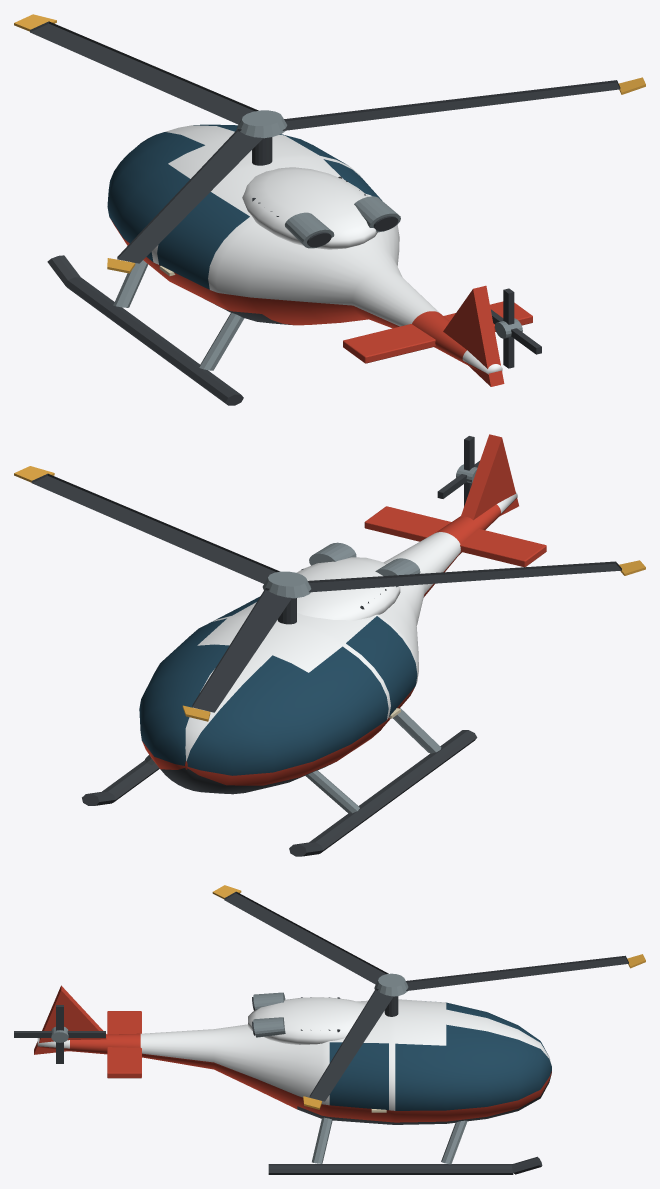
Rendered from helicopter.glb.
3 renders of one model, top to bottom at view 1: azimuth 30°, elevation 25°; view 2: azimuth 150°, elevation 25°; view 3: azimuth 270°, elevation 25°, orthographic. The views are drawn at different scales.
Parts seen in each view (by area): view 1: Helicopter, Helicopter_Cylinder_036, Helicopter_Cylinder_039; view 2: Helicopter, Helicopter_Cylinder_036, Helicopter_Cylinder_039; view 3: Helicopter, Helicopter_Cylinder_036, Helicopter_Cylinder_039.
Part boxes in pixels (x1=…): Helicopter: x1=47, y1=124, x2=532, y2=405; Helicopter_Cylinder_036: x1=14, y1=14, x2=645, y2=273; Helicopter_Cylinder_039: x1=491, y1=288, x2=541, y2=368; Helicopter: x1=82, y1=434, x2=546, y2=856; Helicopter_Cylinder_036: x1=14, y1=466, x2=645, y2=721; Helicopter_Cylinder_039: x1=437, y1=436, x2=479, y2=506; Helicopter: x1=34, y1=985, x2=551, y2=1174; Helicopter_Cylinder_036: x1=212, y1=885, x2=645, y2=1109; Helicopter_Cylinder_039: x1=14, y1=1005, x2=105, y2=1063.
Bounding box in the file's own units: 10.7 × 3.45 × 12.9.
